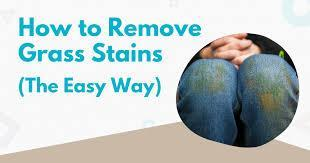earth: (258, 81, 284, 109), (192, 70, 224, 92)
